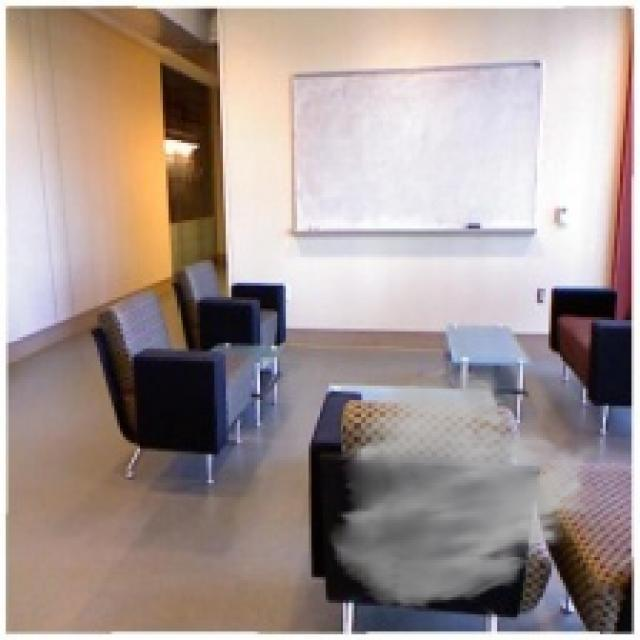Smoke: (326, 366, 603, 612)
